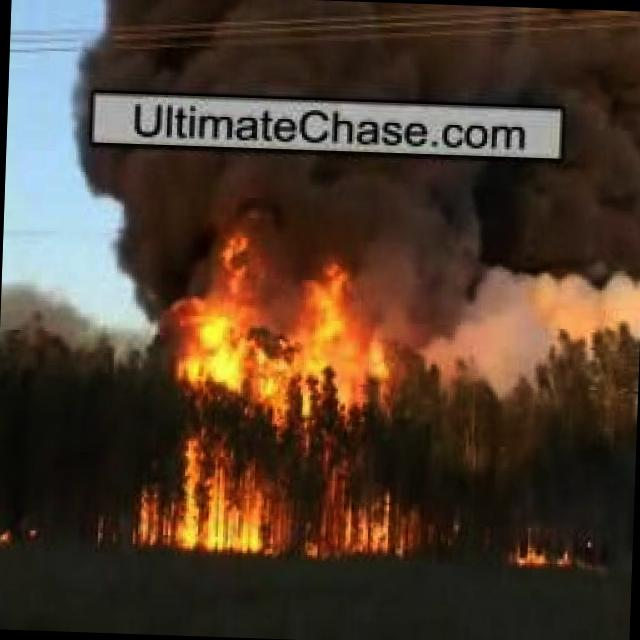fire: (168, 214, 402, 410), (143, 432, 434, 556), (500, 526, 582, 568)
